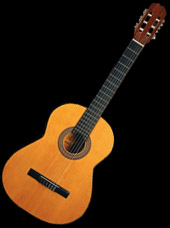guitar: (1, 4, 169, 227)
